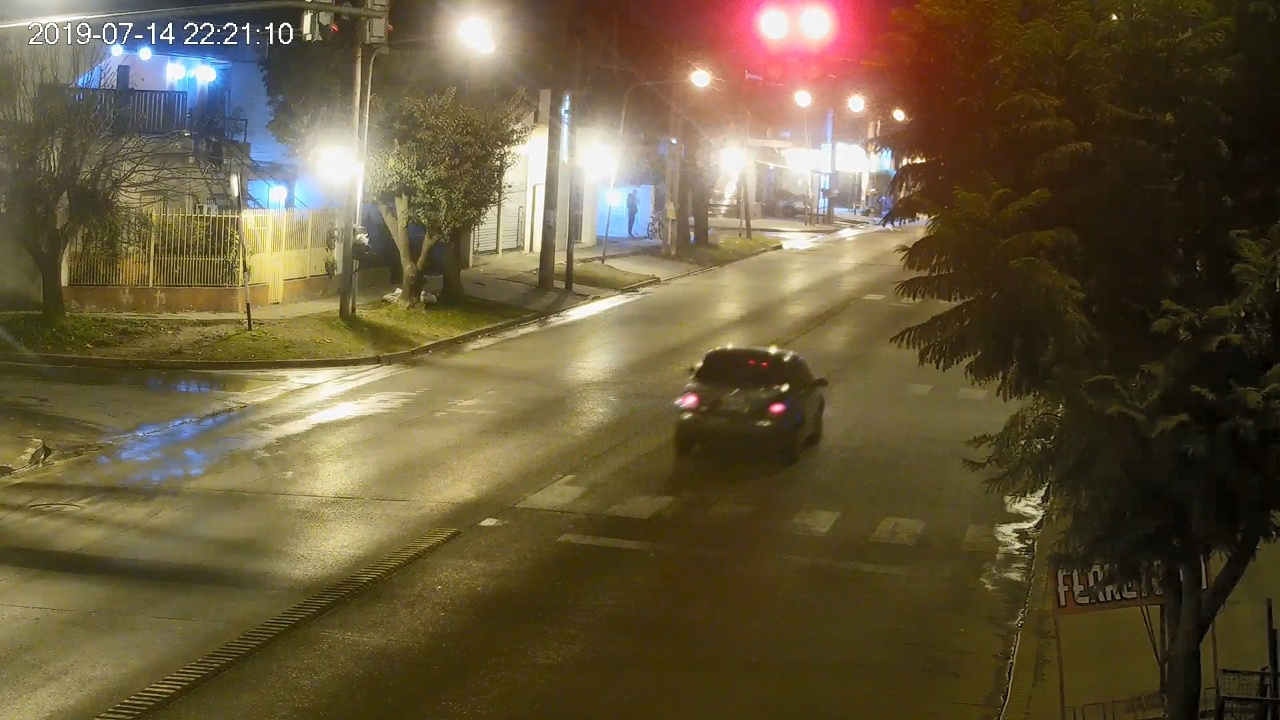car: (673, 347, 828, 462)
traffic light: (801, 6, 829, 80), (763, 5, 789, 78)
